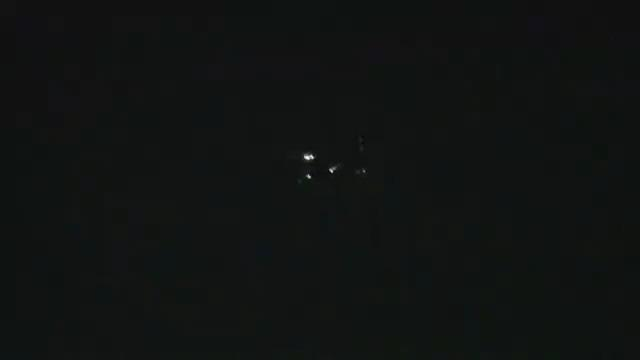Plane: (267, 141, 379, 187)
